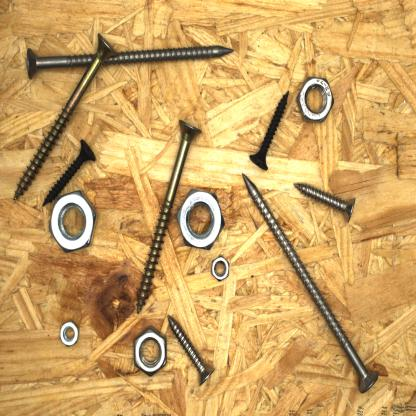screw: (240, 172, 382, 395), (10, 32, 120, 205), (134, 112, 206, 318), (19, 41, 237, 85), (38, 136, 100, 210), (166, 309, 218, 391), (246, 87, 294, 172), (290, 178, 359, 226)
